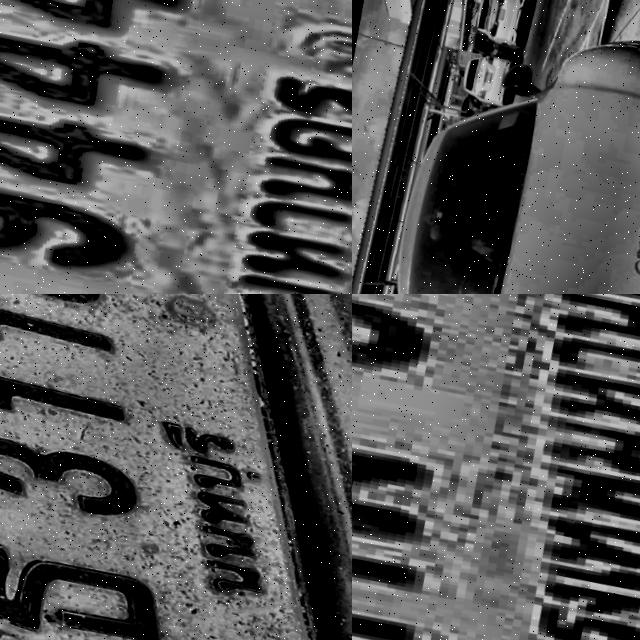license-plate: (0, 294, 352, 640), (0, 0, 352, 294), (352, 294, 640, 640), (492, 7, 508, 23), (480, 70, 492, 84)
